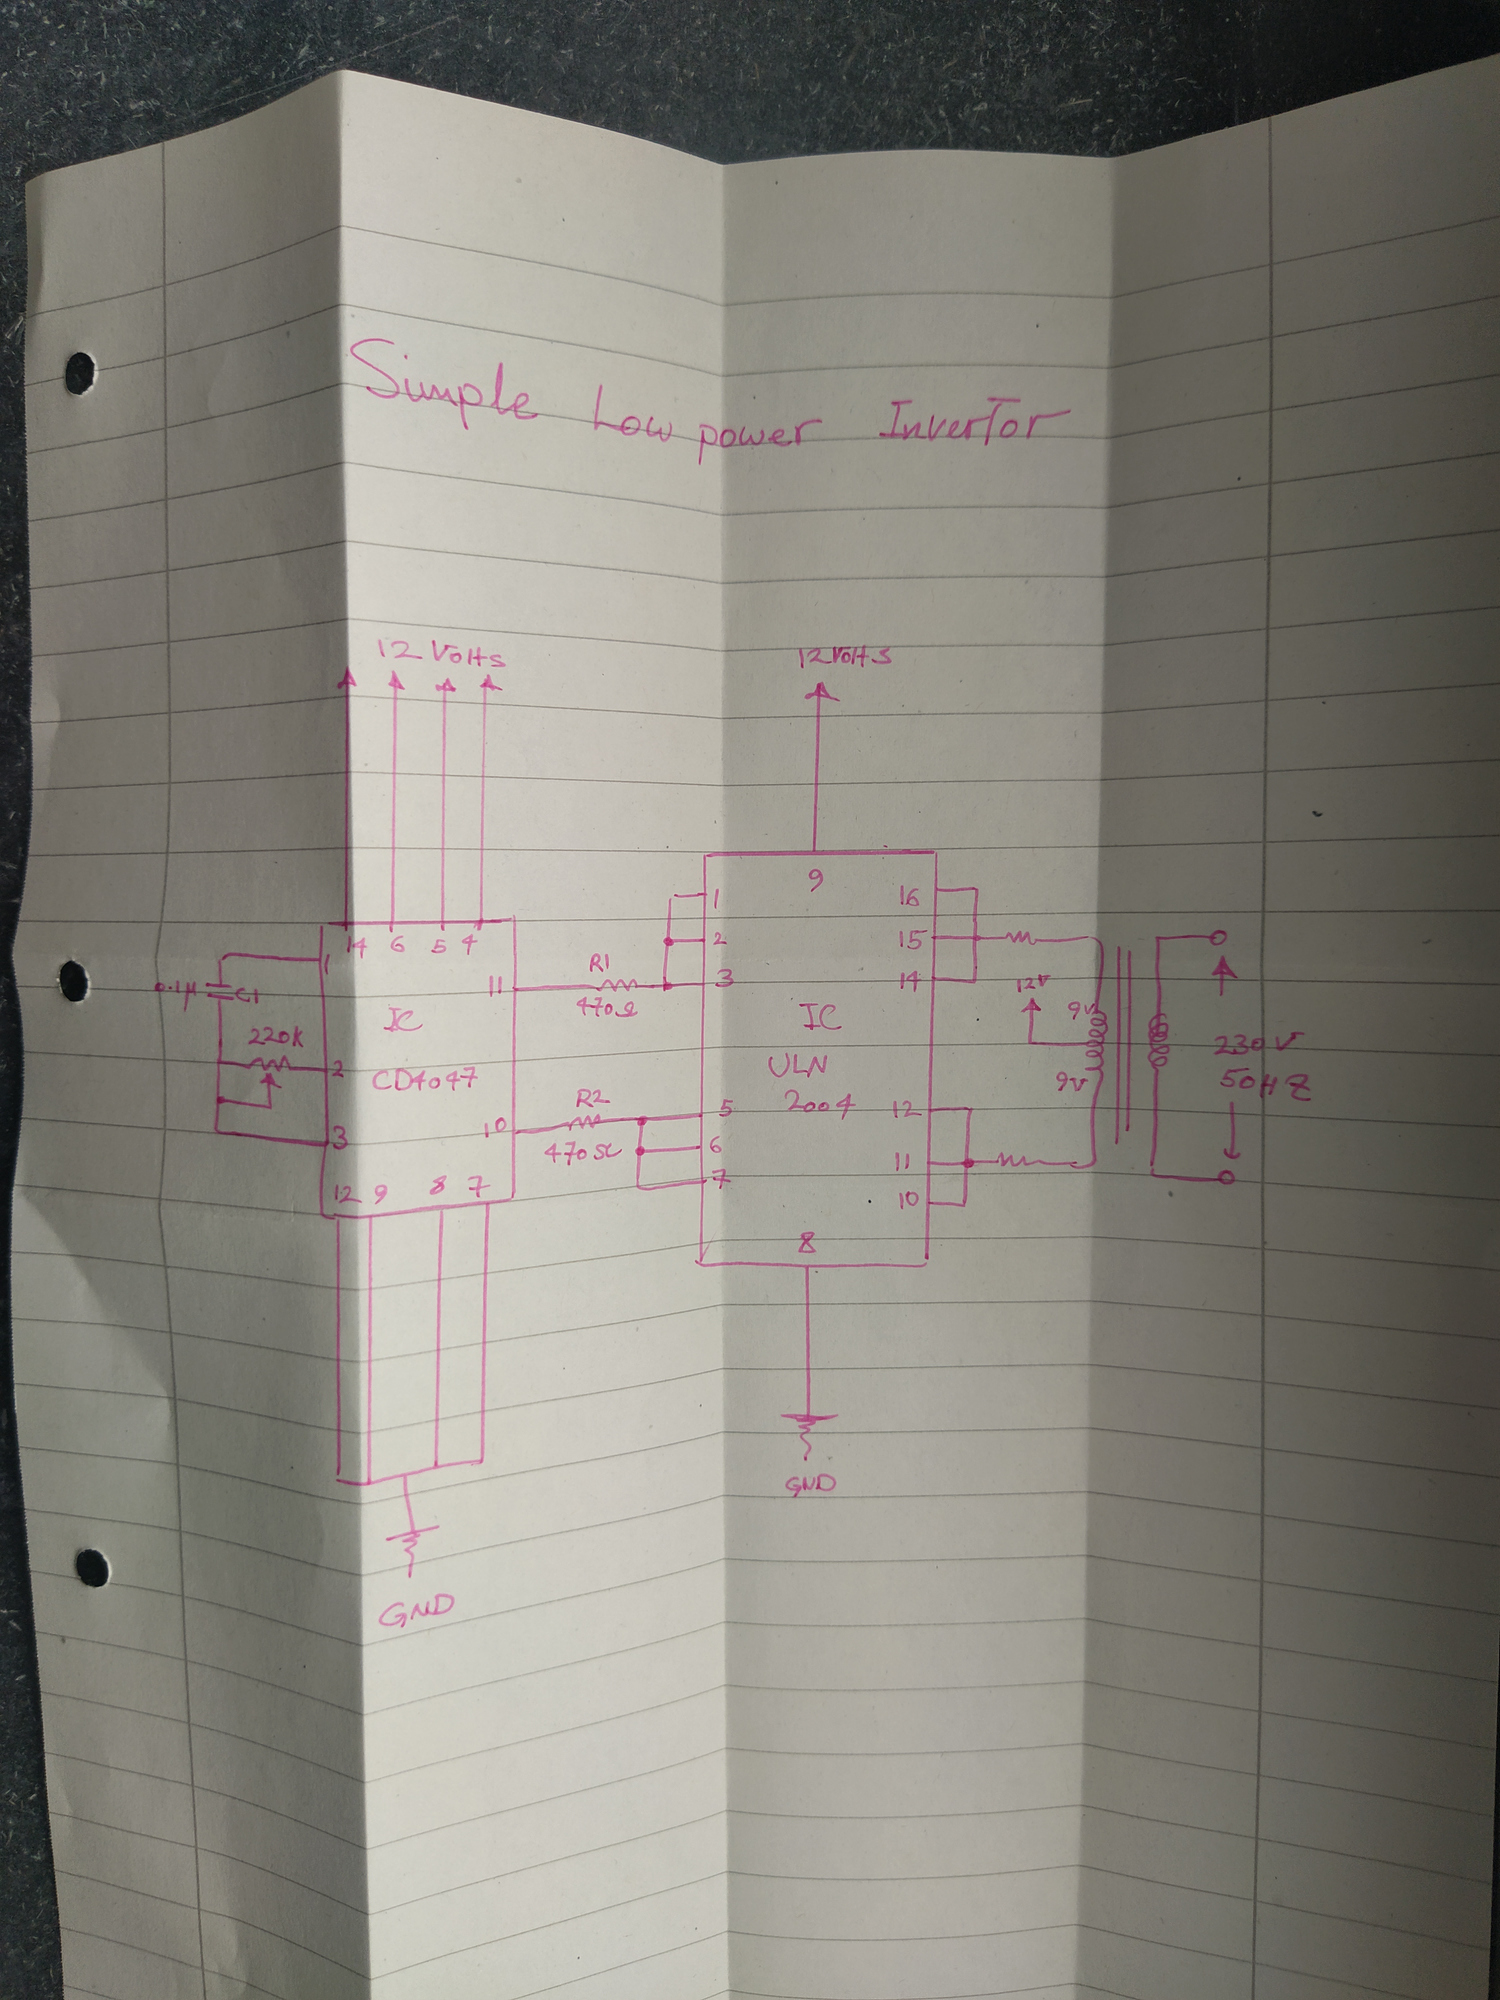capacitor.unpolarized: (203, 980, 236, 1003)
gnd: (383, 1523, 443, 1580), (778, 1409, 841, 1461)
integrated_circuit: (692, 846, 942, 1272), (314, 910, 525, 1222)
junction: (1070, 1157, 1098, 1172), (214, 950, 235, 965), (1145, 1162, 1160, 1181), (1087, 934, 1106, 946), (660, 980, 676, 994), (960, 1156, 975, 1170), (213, 1091, 225, 1109), (470, 1457, 488, 1468), (635, 1113, 649, 1128), (362, 1476, 377, 1490), (211, 1123, 224, 1139), (332, 1469, 343, 1487), (662, 935, 676, 948), (633, 1145, 648, 1157), (399, 1469, 411, 1483), (430, 1460, 444, 1472), (969, 932, 985, 943), (666, 891, 679, 904), (958, 1198, 971, 1211), (265, 1101, 277, 1113), (971, 883, 985, 894), (967, 976, 982, 987), (963, 1102, 975, 1113), (213, 1057, 225, 1068), (633, 1183, 644, 1194), (1024, 1038, 1037, 1047), (1153, 932, 1163, 943)
resistor: (994, 1150, 1048, 1169), (588, 976, 640, 994), (562, 1112, 605, 1132), (1002, 931, 1040, 948)
resistor.adjustable: (244, 1054, 295, 1090)
terminal: (1213, 1169, 1238, 1187), (1207, 928, 1229, 948)
text: (347, 334, 1075, 469), (375, 636, 507, 669), (1218, 1065, 1314, 1104), (370, 1065, 479, 1094), (377, 1591, 459, 1628), (796, 643, 895, 671), (1212, 1028, 1308, 1057), (782, 1087, 859, 1121), (542, 1139, 626, 1169), (766, 1050, 830, 1080), (151, 976, 199, 1014), (575, 994, 641, 1020), (783, 1472, 838, 1502), (247, 1024, 307, 1050), (797, 1000, 845, 1033), (381, 1005, 425, 1035), (1053, 1069, 1090, 1094), (574, 1087, 613, 1110), (481, 1113, 511, 1142), (897, 928, 930, 953), (1013, 973, 1053, 994), (890, 1098, 925, 1120), (343, 932, 370, 961), (332, 1183, 366, 1205), (897, 969, 923, 995), (465, 1173, 493, 1198), (897, 883, 923, 909), (329, 1123, 351, 1153), (235, 984, 265, 1006), (712, 965, 737, 991), (588, 950, 613, 975), (796, 1230, 819, 1257), (1067, 998, 1093, 1022), (711, 1165, 733, 1191), (897, 1189, 922, 1211), (485, 972, 506, 998), (892, 1150, 914, 1173), (807, 866, 826, 893), (429, 1173, 447, 1198), (715, 1098, 736, 1120), (329, 1058, 348, 1080), (388, 932, 407, 954), (460, 932, 477, 956), (372, 1183, 389, 1206), (707, 1132, 723, 1156), (711, 929, 730, 946), (323, 951, 336, 976), (430, 937, 447, 954), (711, 887, 722, 912)
transformer: (1082, 943, 1172, 1146)
vss: (802, 680, 843, 706), (334, 665, 359, 691), (477, 672, 506, 693), (386, 668, 408, 693), (433, 676, 459, 694), (1018, 995, 1043, 1014)
